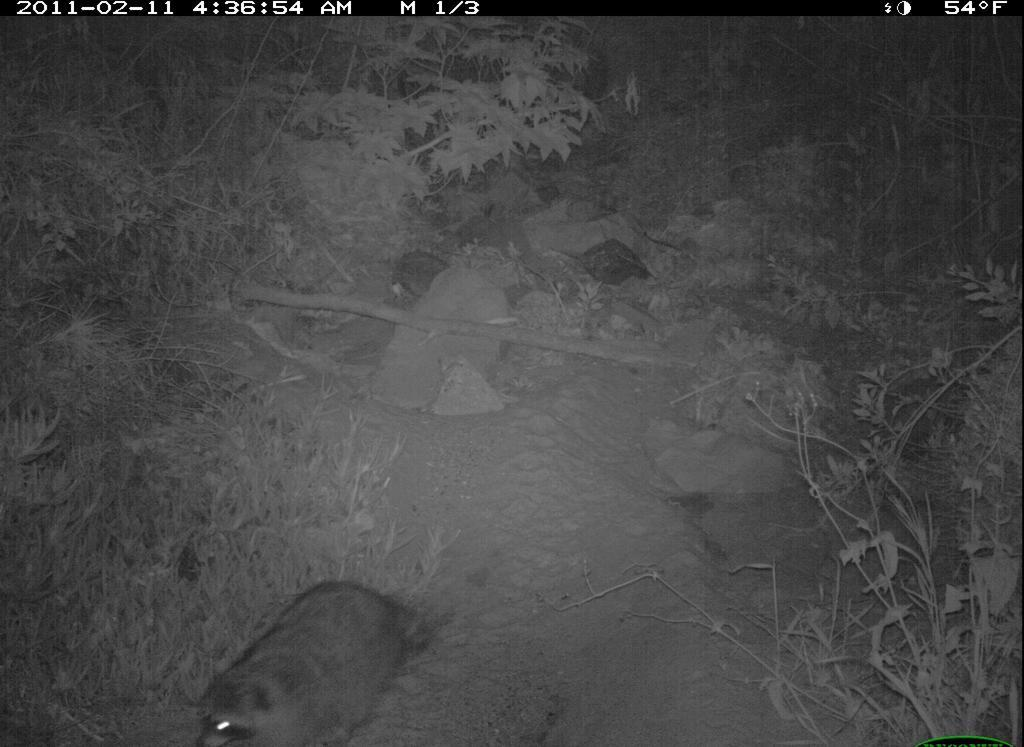raccoon: (176, 555, 441, 745)
